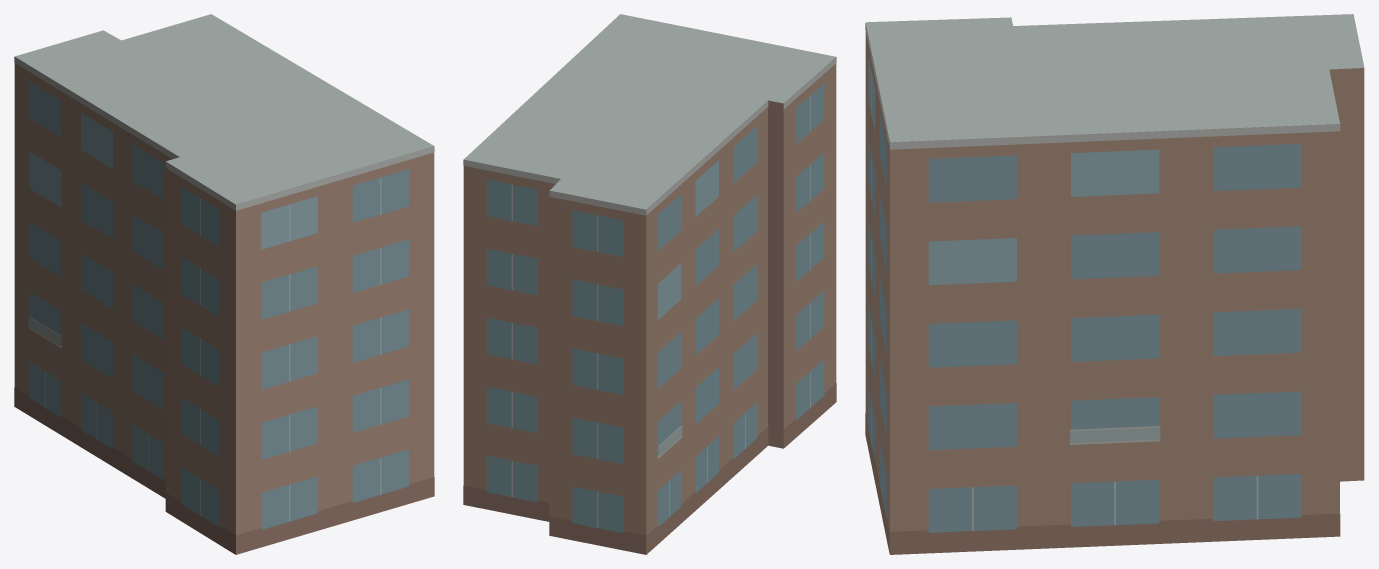
Rendered from survey-upis-32735037.glb.
The picture shows the model from 3 angles, left to right: view 1: azimuth 30°, elevation 25°; view 2: azimuth 150°, elevation 25°; view 3: azimuth 270°, elevation 25°; orthographic projection. The views are drawn at different scales.
Parts seen in each view (by area): view 1: survey-upis-32735037.tmp; view 2: survey-upis-32735037.tmp; view 3: survey-upis-32735037.tmp.
Boxes of the visible parts, x1=… form: survey-upis-32735037.tmp: x1=14, y1=14, x2=434, y2=554; survey-upis-32735037.tmp: x1=463, y1=14, x2=836, y2=554; survey-upis-32735037.tmp: x1=865, y1=14, x2=1364, y2=554.
Size of the model in its own units: 9.11 by 13.65 by 14.97.
